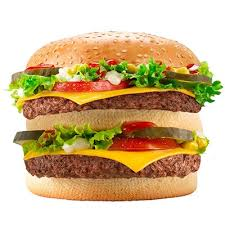hamburger: (7, 30, 216, 200)
